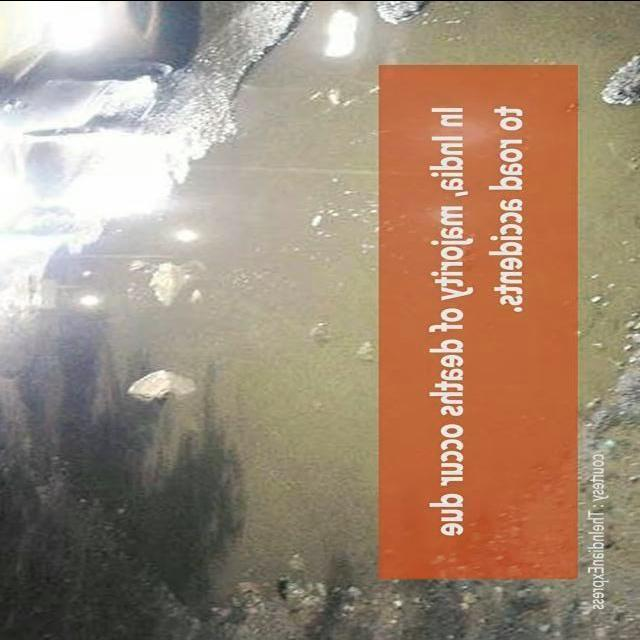pothole: (37, 18, 372, 608)
